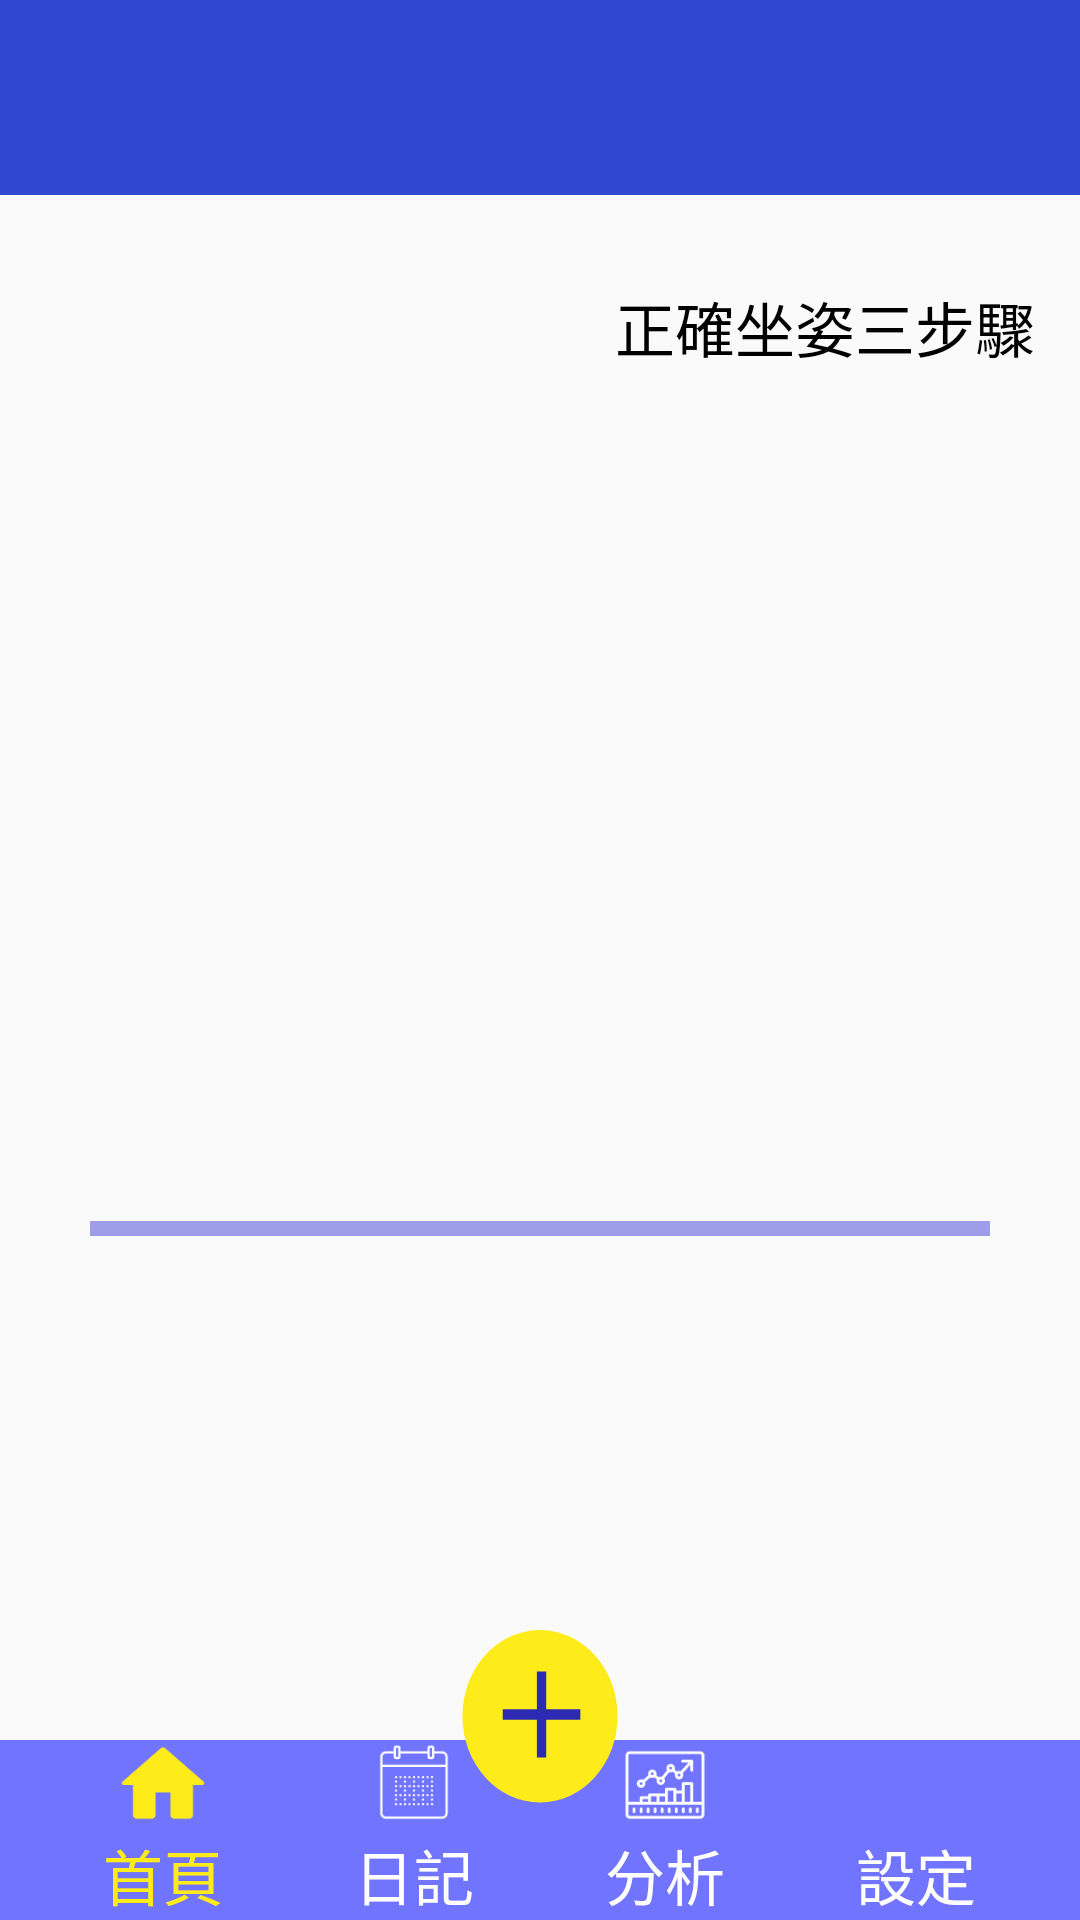

Where to tap for icons on this 1080px×1920px app screen, as [x,y]:
plus: [540,1730]
